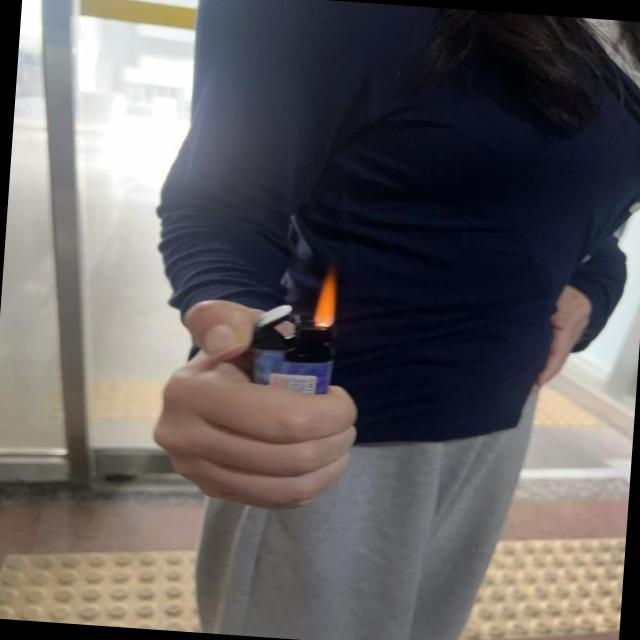Fire: (310, 265, 344, 330)
